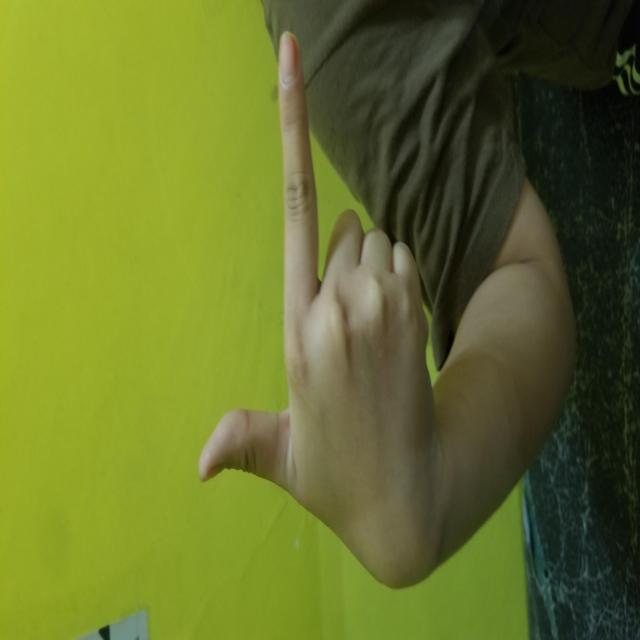G: (87, 200, 612, 427)
